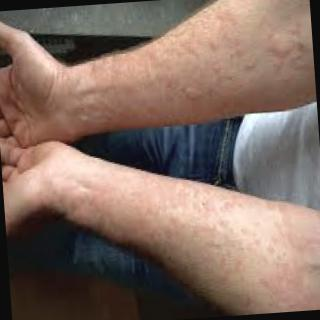urticaria: (192, 203, 313, 292), (180, 34, 303, 95), (70, 170, 160, 229), (77, 69, 161, 121)
